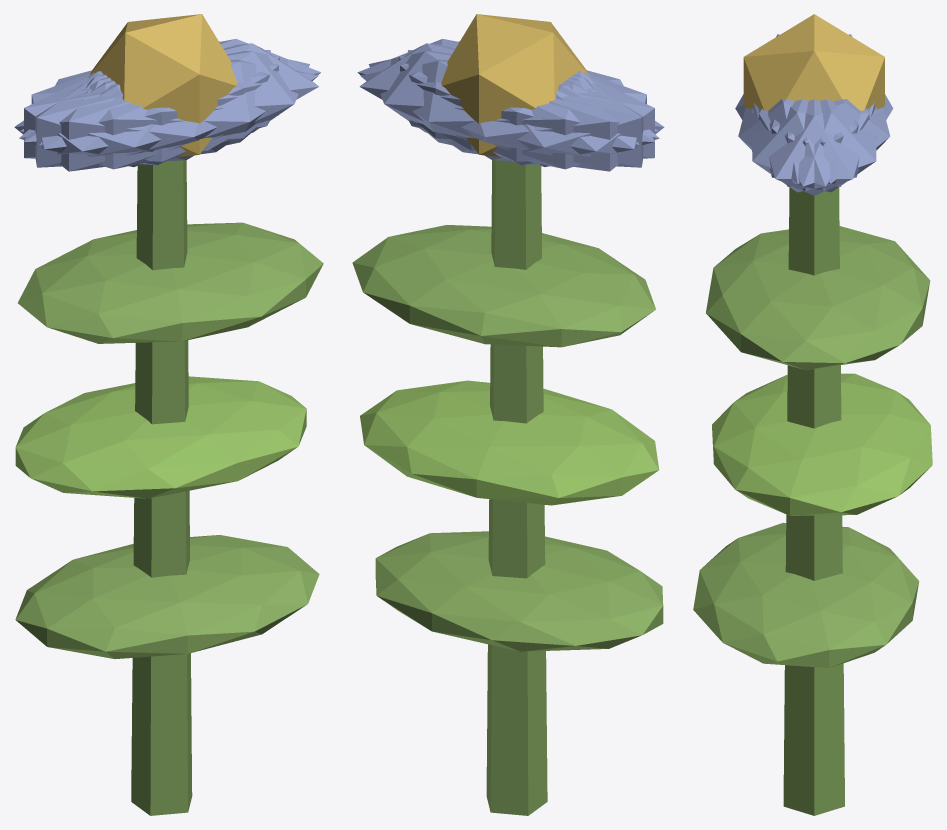
The model's file is heterotis-rotundifolia.glb.
3 renders of one model, left to right at view 1: azimuth 30°, elevation 25°; view 2: azimuth 150°, elevation 25°; view 3: azimuth 270°, elevation 25°, orthographic.
Parts seen in each view (by area): view 1: leaf0, leaf2, leaf1, stem, center, petal1, petal6, petal2, petal5, petal7, petal0, petal4 (+2 smaller); view 2: leaf1, leaf2, leaf0, stem, center, petal8, petal3, petal7, petal4, petal2, petal0, petal5 (+2 smaller); view 3: leaf2, leaf1, leaf0, stem, center, petal0, petal4, petal5, petal8, petal1.
Boxes of the visible parts, x1,y1,x2,y2 form: leaf0: (15, 535, 319, 658); leaf2: (18, 222, 323, 343); leaf1: (15, 376, 306, 498); stem: (131, 160, 192, 815); center: (90, 14, 237, 157); petal1: (19, 59, 318, 169); petal6: (14, 73, 230, 171); petal2: (35, 50, 270, 167); petal5: (39, 51, 309, 161); petal7: (24, 56, 279, 165); petal0: (89, 43, 318, 151); petal4: (20, 39, 320, 141); leaf1: (360, 380, 659, 505); leaf2: (352, 225, 655, 347); leaf0: (375, 531, 663, 651); stem: (486, 160, 547, 815); center: (441, 14, 588, 157); petal8: (360, 59, 659, 169); petal3: (447, 72, 664, 171); petal7: (408, 50, 643, 167); petal4: (368, 51, 639, 161); petal2: (399, 56, 654, 165); petal0: (359, 43, 588, 151); petal5: (357, 39, 657, 142); leaf2: (706, 226, 930, 370); leaf1: (712, 373, 932, 515); leaf0: (693, 522, 919, 667); stem: (783, 187, 844, 815); center: (743, 14, 884, 110); petal0: (753, 99, 874, 195); petal4: (759, 99, 876, 192); petal5: (751, 99, 869, 192); petal8: (769, 99, 890, 183); petal1: (738, 99, 858, 183).
Bounding box in the file's own units: 0.1452 × 0.3673 × 0.1036.
